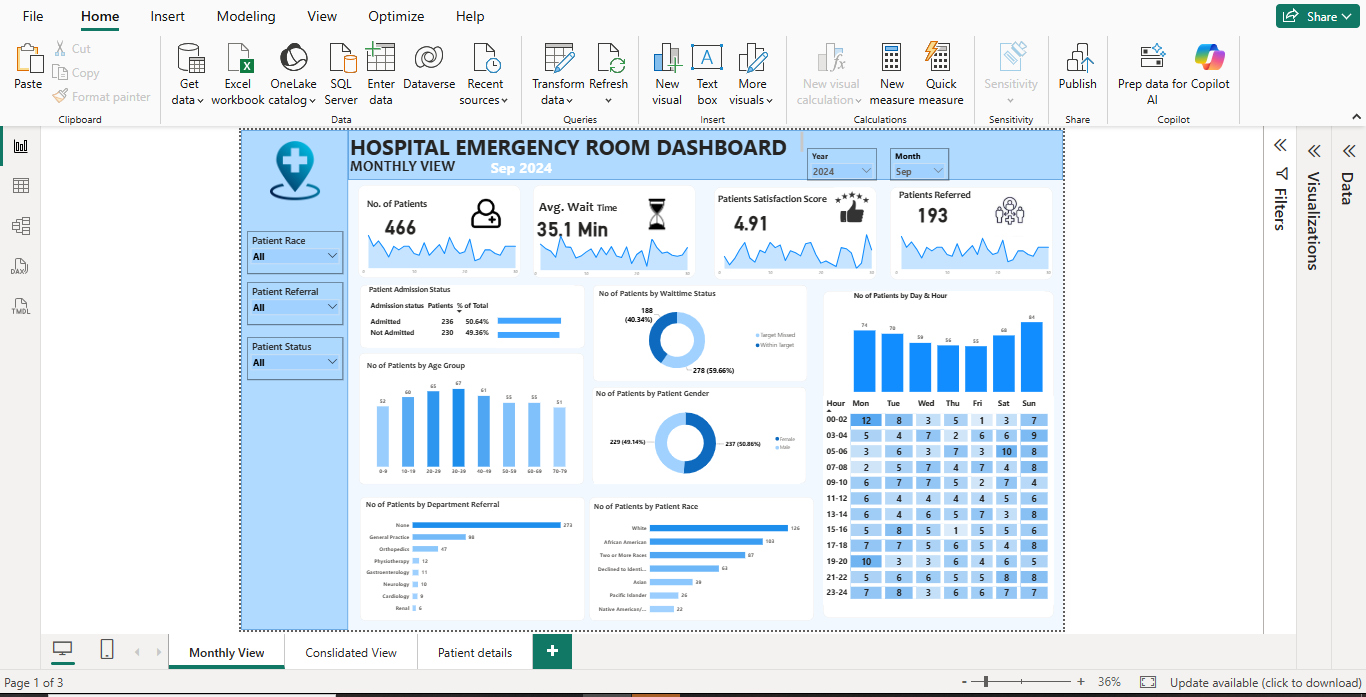

This screenshot's page, from the dashboard's own definition file:
{"tool":"powerbi","page":{"name":"Monthly View","canvas":[2300,1400],"ordinal":0},"visuals":[{"type":"shape","box":[327.6,155.2,455,260],"z":0},{"type":"card","fields":{"Values":["Hospital ER_Data.No of Patients"]},"box":[326.9,184.6,238,159.6],"z":1000},{"type":"shape","box":[0,0,300,1400],"z":2000},{"type":"shape","box":[298.5,0,2001.2,140],"z":3000},{"type":"textbox","box":[299.6,0,1279.6,75.6],"z":4000},{"type":"textbox","box":[299.6,70,372.4,70],"z":5000},{"type":"slicer","fields":{"Values":["Date Tabel.Year Name"]},"box":[1584.8,50.4,196,89.6],"z":6000},{"type":"slicer","fields":{"Values":["Date Tabel.Month Name"]},"box":[1817.2,50.4,165.2,89.6],"z":7000},{"type":"textbox","box":[347.7,184.6,189.2,60],"z":8000},{"type":"areaChart","fields":{"Category":["Date Tabel.Date.Variation.Date Hierarchy.Day"],"Y":["Hospital ER_Data.No of Patients"]},"box":[326.9,271.2,455.8,144.2],"z":9000},{"type":"card","fields":{"Values":["Min(Date Tabel.Month & Year)"]},"box":[672,75.6,226.8,56],"z":10000},{"type":"shape","box":[819,155.2,455,260],"z":11000},{"type":"card","fields":{"Values":["Hospital ER_Data.Avg. Wait Time"]},"box":[808.1,190.8,238,159.6],"z":12000},{"type":"textbox","box":[829.2,184.6,260,66.2],"z":13000},{"type":"areaChart","fields":{"Category":["Date Tabel.Date.Variation.Date Hierarchy.Day"],"Y":["Avg(Hospital ER_Data.Patient Waittime)"]},"box":[808.1,277.3,455.8,144.2],"z":14000},{"type":"shape","box":[1323.1,159.7,455,260],"z":15000},{"type":"card","fields":{"Values":["Avg(Hospital ER_Data.Patient Satisfaction Score)"]},"box":[1310.8,172.4,238,159.6],"z":16000},{"type":"textbox","box":[1330.8,170.8,341.5,49.2],"z":17000},{"type":"areaChart","fields":{"Category":["Date Tabel.Date.Variation.Date Hierarchy.Day"],"Y":["Avg(Hospital ER_Data.Patient Satisfaction Score)"]},"box":[1324.4,257.6,456.4,159.6],"z":18000},{"type":"shape","box":[332.1,434.4,630,177],"z":19000},{"type":"shape","box":[1816.3,159.1,455.8,260],"z":20000},{"type":"pivotTable","title":"Patient Admission Status","fields":{"Rows":["Hospital ER_Data.Admission status"],"Values":["Hospital ER_Data.No of Patients1","Hospital ER_Data.No of Patients"]},"box":[353.6,433.1,579.6,176.4],"z":21000},{"type":"card","fields":{"Values":["Hospital ER_Data.No. of Patient Referred"]},"box":[1817,151.3,238,159.6],"z":22000},{"type":"textbox","box":[1836.9,160,218.5,53.8],"z":23000},{"type":"areaChart","fields":{"Category":["Date Tabel.Date.Variation.Date Hierarchy.Day"],"Y":["Hospital ER_Data.No of Patients"]},"box":[1820,274.4,455.8,144.2],"z":24000},{"type":"barChart","fields":{"Category":["Hospital ER_Data.Admission status"],"Y":["Hospital ER_Data.No of Patients"]},"box":[714.8,491.9,235.2,117.6],"z":25000},{"type":"shape","box":[331.7,625.7,630,368],"z":26000},{"type":"clusteredColumnChart","fields":{"Category":["Hospital ER_Data.Age Group"],"Y":["Hospital ER_Data.No of Patients"]},"box":[347.8,642.9,596.6,332.8],"z":27000},{"type":"shape","box":[332.8,1027.6,630,346.6],"z":28000},{"type":"clusteredBarChart","fields":{"Y":["Hospital ER_Data.No of Patients"],"Category":["Hospital ER_Data.Department Referral"]},"box":[344.8,1034.5,596.6,332.8],"z":29000},{"type":"shape","box":[975.5,1029,630,346.6],"z":30000},{"type":"clusteredBarChart","fields":{"Y":["Hospital ER_Data.No of Patients"],"Category":["Hospital ER_Data.Patient Race"]},"box":[982.8,1039.7,596.6,332.8],"z":31000},{"type":"shape","box":[983.9,719.4,600,270],"z":32000},{"type":"donutChart","fields":{"Y":["Hospital ER_Data.No of Patients"],"Category":["Hospital ER_Data.Patient Gender"]},"box":[988.4,722.4,576.8,268.8],"z":33000},{"type":"shape","box":[984.6,433.4,600,270],"z":34000},{"type":"donutChart","fields":{"Y":["Hospital ER_Data.No of Patients"],"Category":["Hospital ER_Data.Waittime Status"]},"box":[996.9,442.7,569.2,252.3],"z":35000},{"type":"shape","box":[1629.6,450.8,646.8,915.6],"z":36000},{"type":"pivotTable","fields":{"Rows":["Hospital ER_Data.WaitTime Intervel"],"Columns":["Date Tabel.Day Name"],"Values":["Hospital ER_Data.No of Patients"]},"box":[1629.6,744.8,646.8,585.2],"z":37000},{"type":"columnChart","title":"No of Patients by Day & Hour","fields":{"Category":["Date Tabel.Day Name"],"Y":["Hospital ER_Data.No of Patients"]},"box":[1710.8,450.8,540.4,288.4],"z":38000},{"type":"image","box":[607.6,179.2,156.8,109.2],"z":39000},{"type":"image","box":[1089.2,159.6,151.2,145.6],"z":40000},{"type":"image","box":[2055.4,166.2,195.4,133.8],"z":41000},{"type":"image","box":[1660,160,101.5,118.5],"z":42000},{"type":"image","box":[36.4,30.8,230.8,166.2],"z":43000},{"type":"slicer","fields":{"Values":["Hospital ER_Data.Patient Race"]},"box":[16.8,282.8,268.8,120.4],"z":43001},{"type":"slicer","fields":{"Values":["Hospital ER_Data.Department Referral"]},"box":[16.8,425.6,268.8,120.4],"z":43002},{"type":"slicer","fields":{"Values":["Hospital ER_Data.Admission status"]},"box":[16.8,579.6,268.8,120.4],"z":43003}]}

Visuals, with their boxes on the page's 2300x1400 design canvas (x1, y1, x2, y2). These are canvas units, not pixel positions in the 1366x697 screenshot, which may show the page scaled, cropped or inside an application window:
shape: box=[328, 155, 783, 415]
card - Hospital ER_Data.No of Patients: box=[327, 185, 565, 344]
shape: box=[0, 0, 300, 1400]
shape: box=[298, 0, 2300, 140]
textbox: box=[300, 0, 1579, 76]
textbox: box=[300, 70, 672, 140]
slicer - Date Tabel.Year Name: box=[1585, 50, 1781, 140]
slicer - Date Tabel.Month Name: box=[1817, 50, 1982, 140]
textbox: box=[348, 185, 537, 245]
areaChart - Date Tabel.Date.Variation.Date Hierarchy.Day x Hospital ER_Data.No of Patients: box=[327, 271, 783, 415]
card - Min(Date Tabel.Month & Year): box=[672, 76, 899, 132]
shape: box=[819, 155, 1274, 415]
card - Hospital ER_Data.Avg. Wait Time: box=[808, 191, 1046, 350]
textbox: box=[829, 185, 1089, 251]
areaChart - Date Tabel.Date.Variation.Date Hierarchy.Day x Avg(Hospital ER_Data.Patient Waittime): box=[808, 277, 1264, 422]
shape: box=[1323, 160, 1778, 420]
card - Avg(Hospital ER_Data.Patient Satisfaction Score): box=[1311, 172, 1549, 332]
textbox: box=[1331, 171, 1672, 220]
areaChart - Date Tabel.Date.Variation.Date Hierarchy.Day x Avg(Hospital ER_Data.Patient Satisfaction Score): box=[1324, 258, 1781, 417]
shape: box=[332, 434, 962, 611]
shape: box=[1816, 159, 2272, 419]
"Patient Admission Status" pivotTable: box=[354, 433, 933, 610]
card - Hospital ER_Data.No. of Patient Referred: box=[1817, 151, 2055, 311]
textbox: box=[1837, 160, 2055, 214]
areaChart - Date Tabel.Date.Variation.Date Hierarchy.Day x Hospital ER_Data.No of Patients: box=[1820, 274, 2276, 419]
barChart - Hospital ER_Data.Admission status x Hospital ER_Data.No of Patients: box=[715, 492, 950, 610]
shape: box=[332, 626, 962, 994]
clusteredColumnChart - Hospital ER_Data.Age Group x Hospital ER_Data.No of Patients: box=[348, 643, 944, 976]
shape: box=[333, 1028, 963, 1374]
clusteredBarChart - Hospital ER_Data.No of Patients x Hospital ER_Data.Department Referral: box=[345, 1034, 941, 1367]
shape: box=[976, 1029, 1606, 1376]
clusteredBarChart - Hospital ER_Data.No of Patients x Hospital ER_Data.Patient Race: box=[983, 1040, 1579, 1372]
shape: box=[984, 719, 1584, 989]
donutChart - Hospital ER_Data.No of Patients x Hospital ER_Data.Patient Gender: box=[988, 722, 1565, 991]
shape: box=[985, 433, 1585, 703]
donutChart - Hospital ER_Data.No of Patients x Hospital ER_Data.Waittime Status: box=[997, 443, 1566, 695]
shape: box=[1630, 451, 2276, 1366]
pivotTable - Hospital ER_Data.WaitTime Intervel x Date Tabel.Day Name: box=[1630, 745, 2276, 1330]
"No of Patients by Day & Hour" columnChart: box=[1711, 451, 2251, 739]
image: box=[608, 179, 764, 288]
image: box=[1089, 160, 1240, 305]
image: box=[2055, 166, 2251, 300]
image: box=[1660, 160, 1762, 278]
image: box=[36, 31, 267, 197]
slicer - Hospital ER_Data.Patient Race: box=[17, 283, 286, 403]
slicer - Hospital ER_Data.Department Referral: box=[17, 426, 286, 546]
slicer - Hospital ER_Data.Admission status: box=[17, 580, 286, 700]
